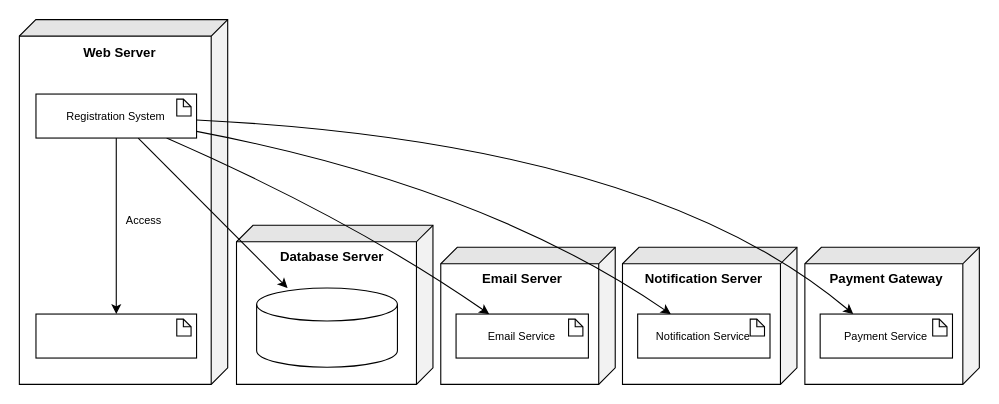
Some shapes in this 999 by 404 pixel diagram are drawn without their labels. The box of each missing label's shape, as (x1, y1, x2, y2) in pixels:
Course Database: (35, 313, 197, 358)
Student Database: (256, 287, 397, 367)
